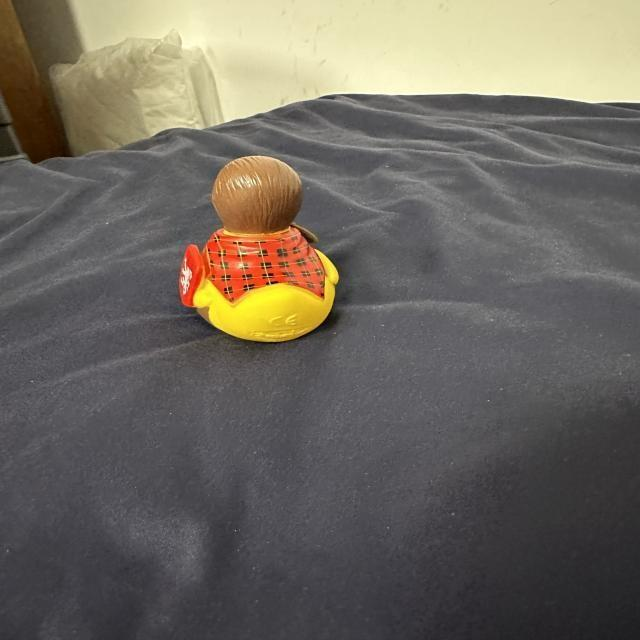rubber-duck: (178, 155, 336, 340)
